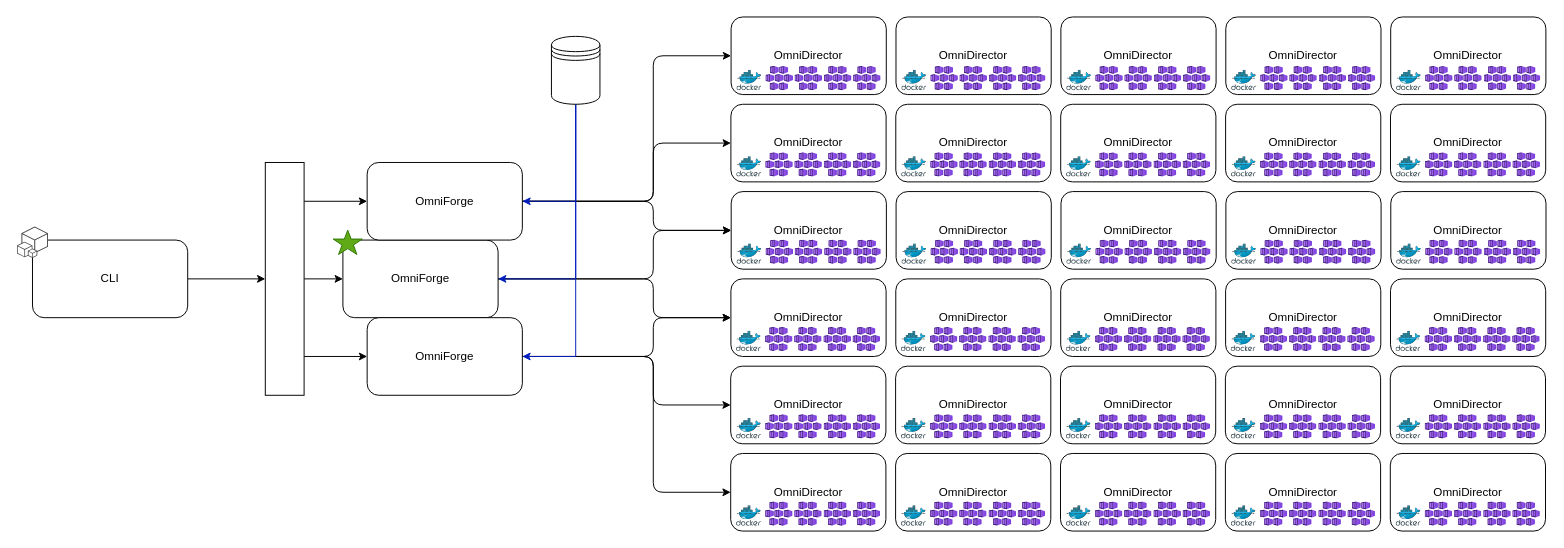
The diagram is 1564 pixels wide and 548 high, and some of its shapes have lost their labels. The shapes that lost their labels are listed below. From the top down, each one's box as (x1, y1, x2, y2) in pixels, then its label:
(550, 35, 600, 104): DB
(264, 162, 304, 395): RR DNS
